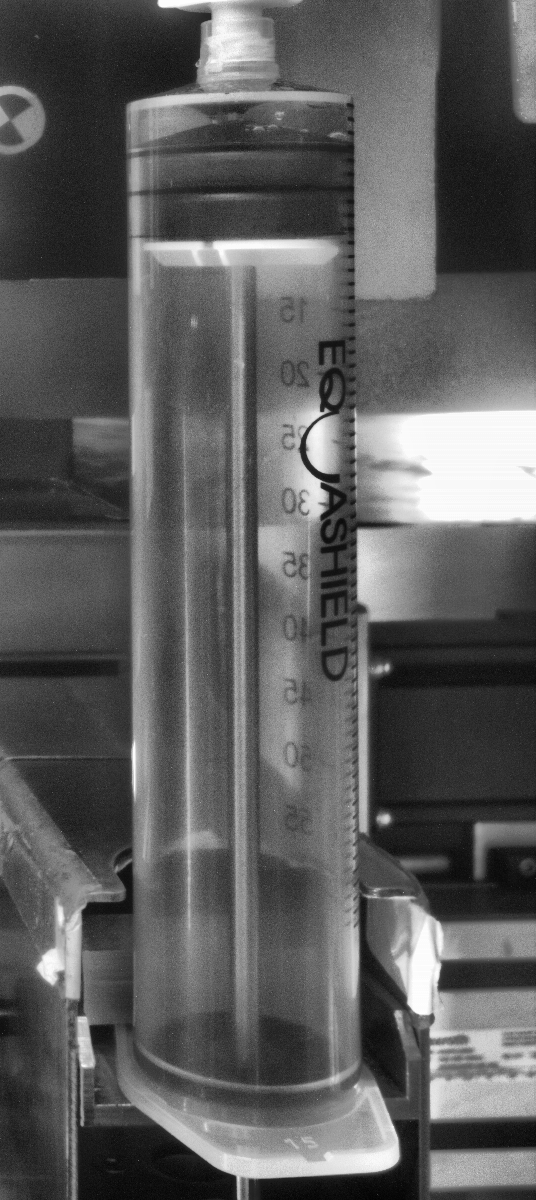piston: (125, 158, 359, 270)
